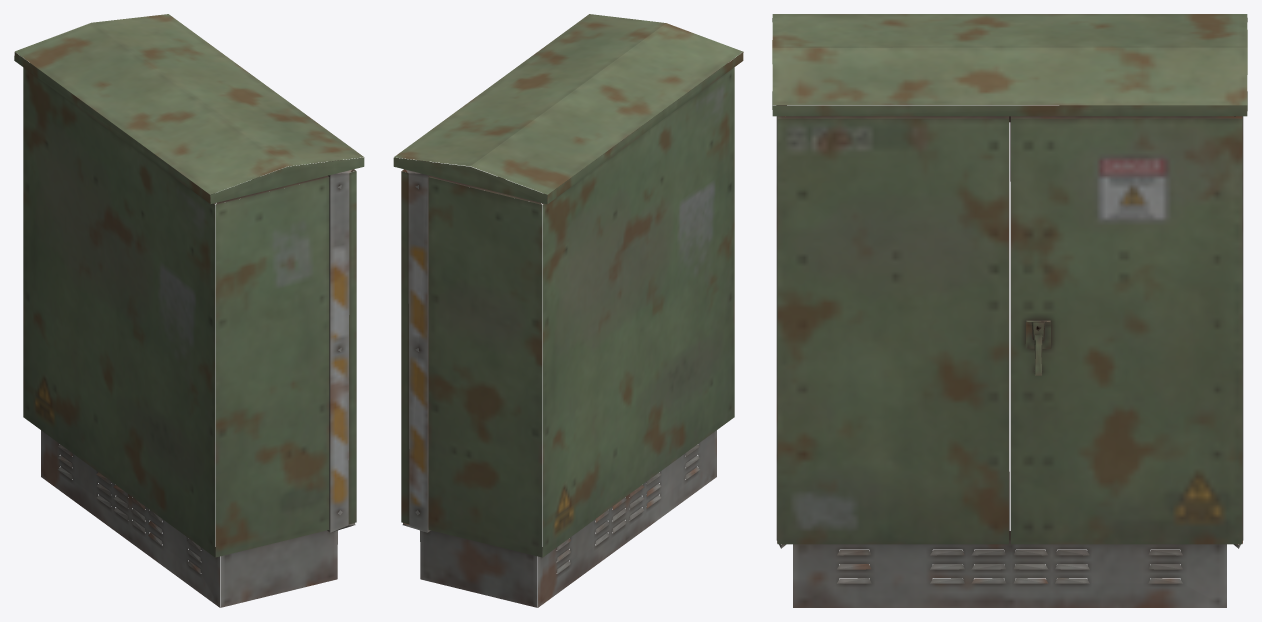
File: prop_utility2.glb
The picture shows the model from 3 angles, left to right: view 1: azimuth 30°, elevation 25°; view 2: azimuth 150°, elevation 25°; view 3: azimuth 270°, elevation 25°; orthographic projection. The views are drawn at different scales.
Visible parts, largest first — view 1: hull; view 2: hull; view 3: hull.
Boxes of the visible parts, bbox=[...] form: hull: bbox=[14, 14, 364, 607]; hull: bbox=[393, 14, 743, 607]; hull: bbox=[772, 14, 1247, 607].
Size of the model in its own units: 0.9366 by 2.44 by 2.
1 material, 1 textured.
